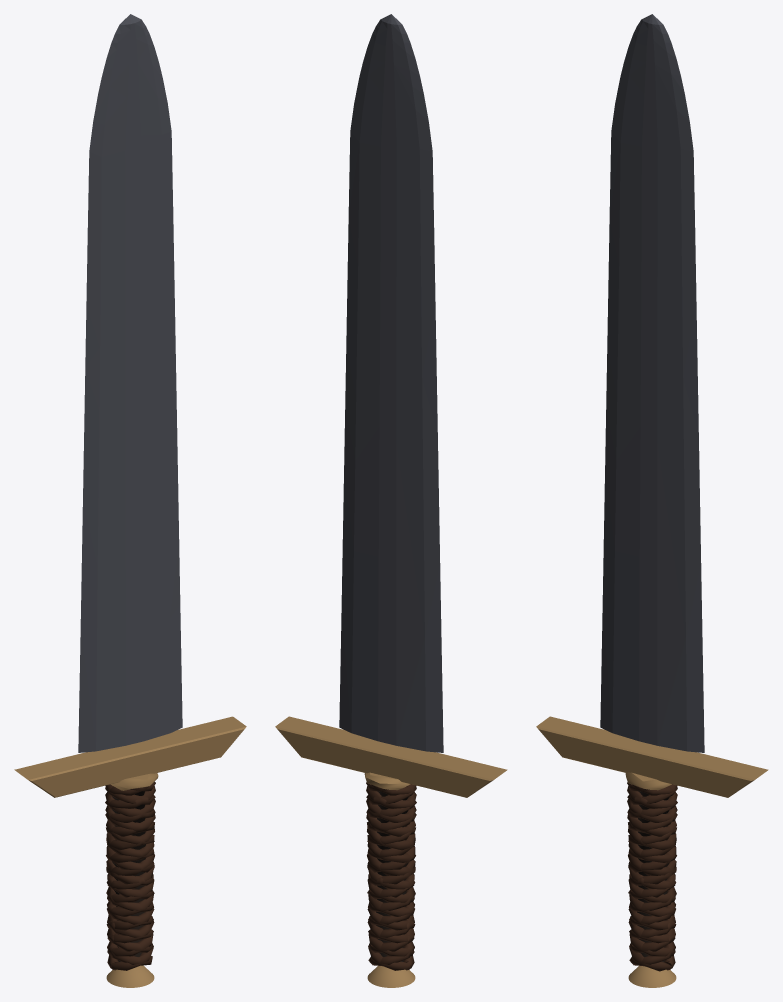
The model's file is loi-the-bai-sao.glb.
The picture shows the model from 3 angles, left to right: view 1: azimuth 30°, elevation 25°; view 2: azimuth 150°, elevation 25°; view 3: azimuth 330°, elevation 25°; orthographic projection.
Visible parts, largest first — view 1: blade, wrap, guard, pommel, grip; view 2: blade, wrap, guard, pommel; view 3: blade, wrap, guard, pommel.
Part boxes in pixels (x1,y1,x2,y2): blade: [78, 14, 182, 752]; wrap: [105, 781, 155, 970]; guard: [14, 716, 246, 797]; pommel: [106, 965, 154, 987]; grip: [112, 791, 145, 961]; blade: [339, 14, 443, 752]; wrap: [366, 782, 416, 970]; guard: [275, 716, 507, 797]; pommel: [367, 965, 415, 987]; blade: [600, 14, 704, 752]; wrap: [627, 782, 677, 971]; guard: [536, 716, 768, 797]; pommel: [628, 965, 676, 987].
Size of the model in its own units: 0.3154 by 1.33 by 0.0688.
